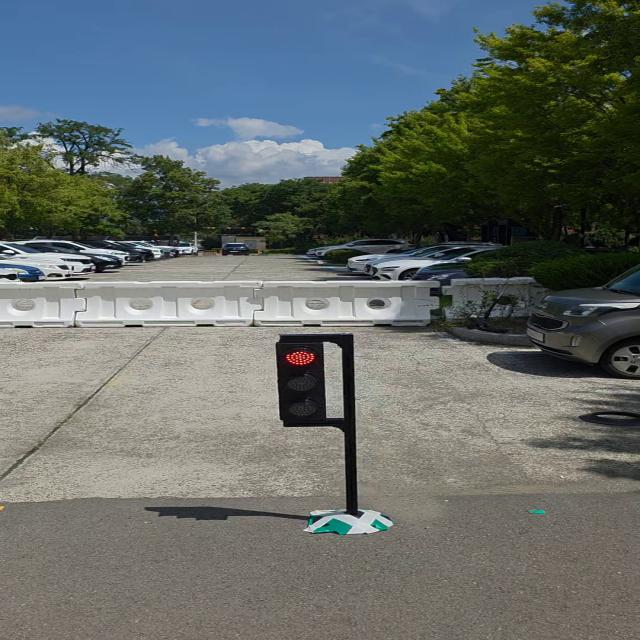red: (269, 341, 331, 424)
